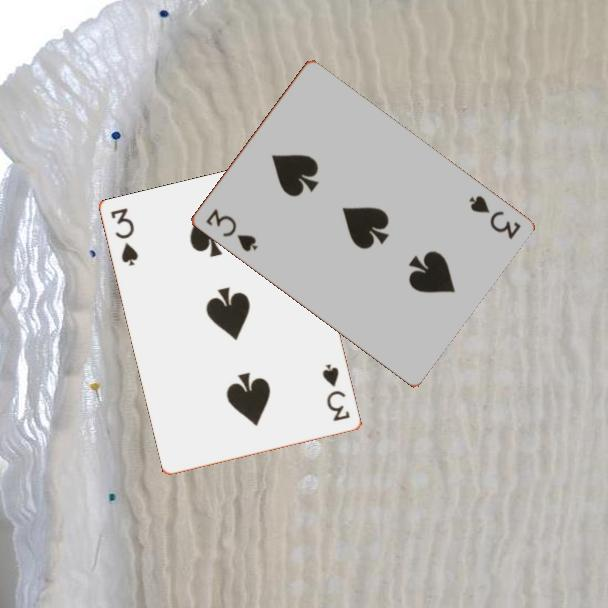s03: (202, 205, 261, 255), (465, 192, 524, 242), (107, 204, 141, 269), (319, 360, 353, 424)
